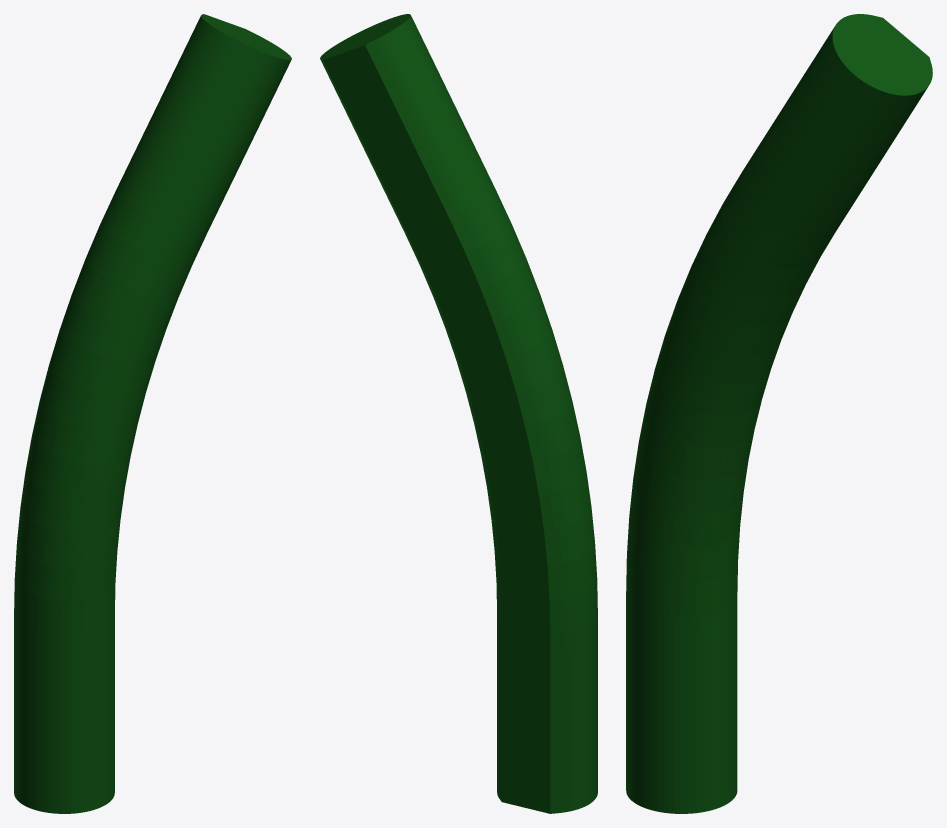
The model's file is stem_1B_30R.glb.
The picture shows the model from 3 angles, left to right: view 1: azimuth 30°, elevation 25°; view 2: azimuth 150°, elevation 25°; view 3: azimuth 330°, elevation 25°; orthographic projection. The views are drawn at different scales.
Parts seen in each view (by area): view 1: stem_1B_30R; view 2: stem_1B_30R; view 3: stem_1B_30R.
Boxes of the visible parts, box(x1,y1,x2,y2) form: stem_1B_30R: box(14, 14, 291, 813); stem_1B_30R: box(320, 14, 597, 813); stem_1B_30R: box(626, 14, 932, 813).
Bounding box in the file's own units: 0.0217 × 0.0578 × 0.00666.
